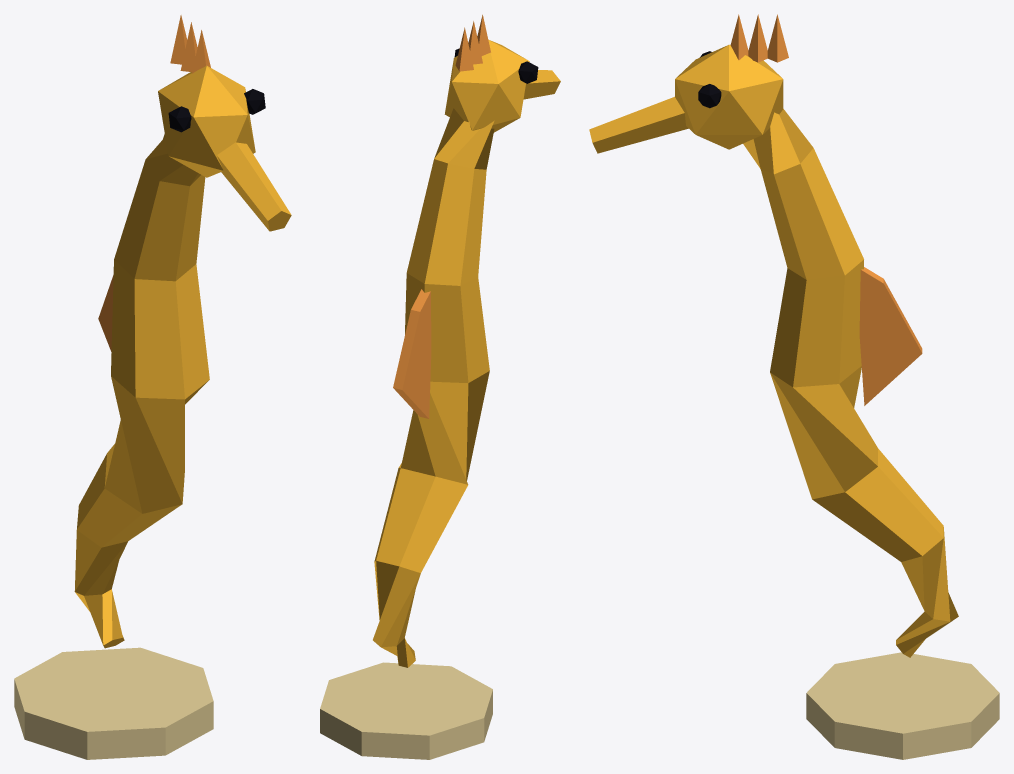
Rendered from seahorse.glb.
3 renders of one model, left to right at view 1: azimuth 30°, elevation 25°; view 2: azimuth 150°, elevation 25°; view 3: azimuth 270°, elevation 25°, orthographic. The views are drawn at different scales.
Parts seen in each view (by area): view 1: seahorse; view 2: seahorse; view 3: seahorse.
Part boxes in pixels (<box>): seahorse: <box>14,15,291,759</box>; seahorse: <box>320,14,560,759</box>; seahorse: <box>589,14,999,759</box>.
Bounding box in the file's own units: 0.2 × 0.805 × 0.4248.
